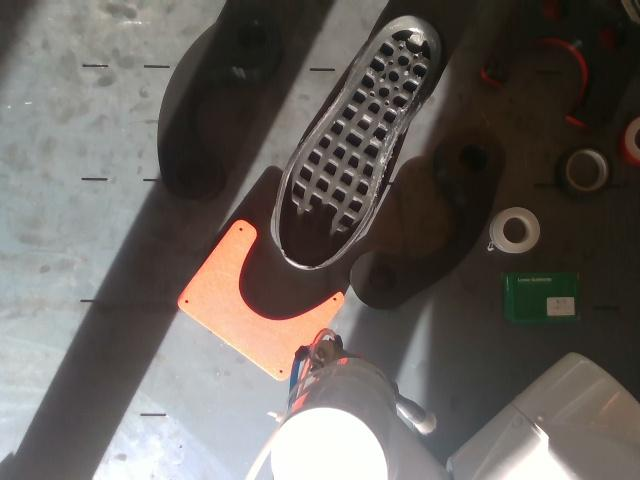shoes: (279, 15, 438, 267)
